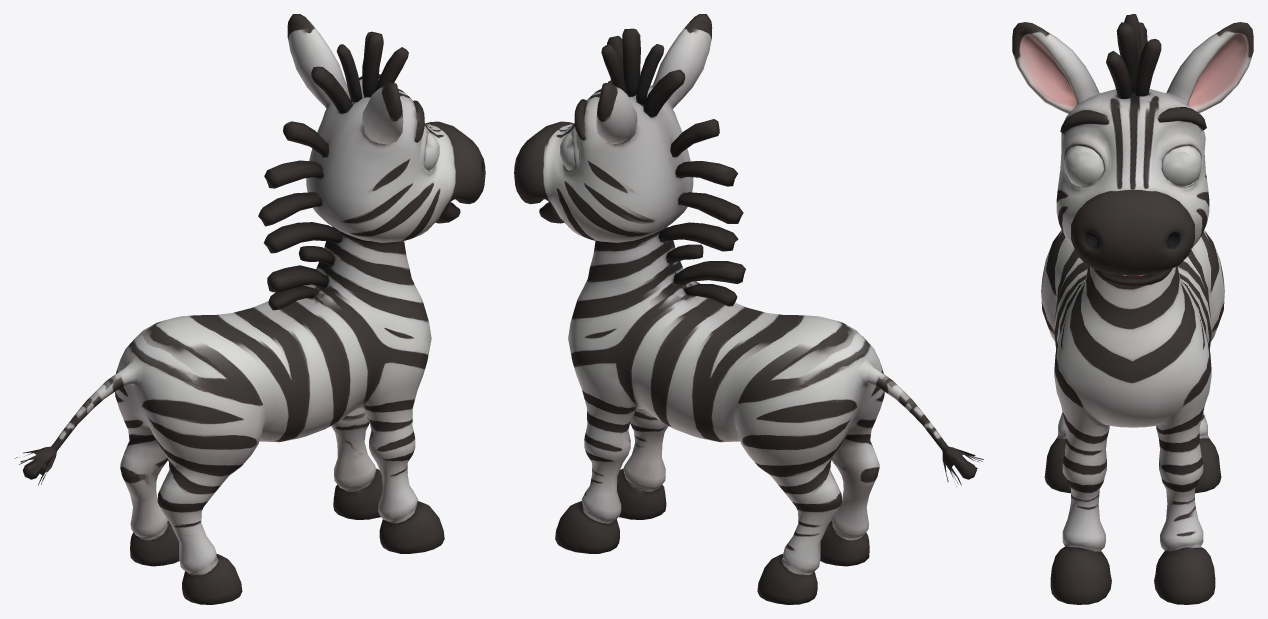
File: zebra.glb
3 views of the same model, side by side, from view 1: azimuth 30°, elevation 25°; view 2: azimuth 150°, elevation 25°; view 3: azimuth 270°, elevation 25° (orthographic). The views are drawn at different scales.
Parts seen in each view (by area): view 1: tripo_node_32186008-c072-46d4-8447-c07e7e2a204d; view 2: tripo_node_32186008-c072-46d4-8447-c07e7e2a204d; view 3: tripo_node_32186008-c072-46d4-8447-c07e7e2a204d.
Part boxes in pixels (<box>): tripo_node_32186008-c072-46d4-8447-c07e7e2a204d: <box>14,14,485,604</box>; tripo_node_32186008-c072-46d4-8447-c07e7e2a204d: <box>514,14,983,604</box>; tripo_node_32186008-c072-46d4-8447-c07e7e2a204d: <box>1012,14,1253,604</box>.
Bounding box in the file's own units: 0.9551 × 0.998 × 0.3926.
1 material, 1 textured.
